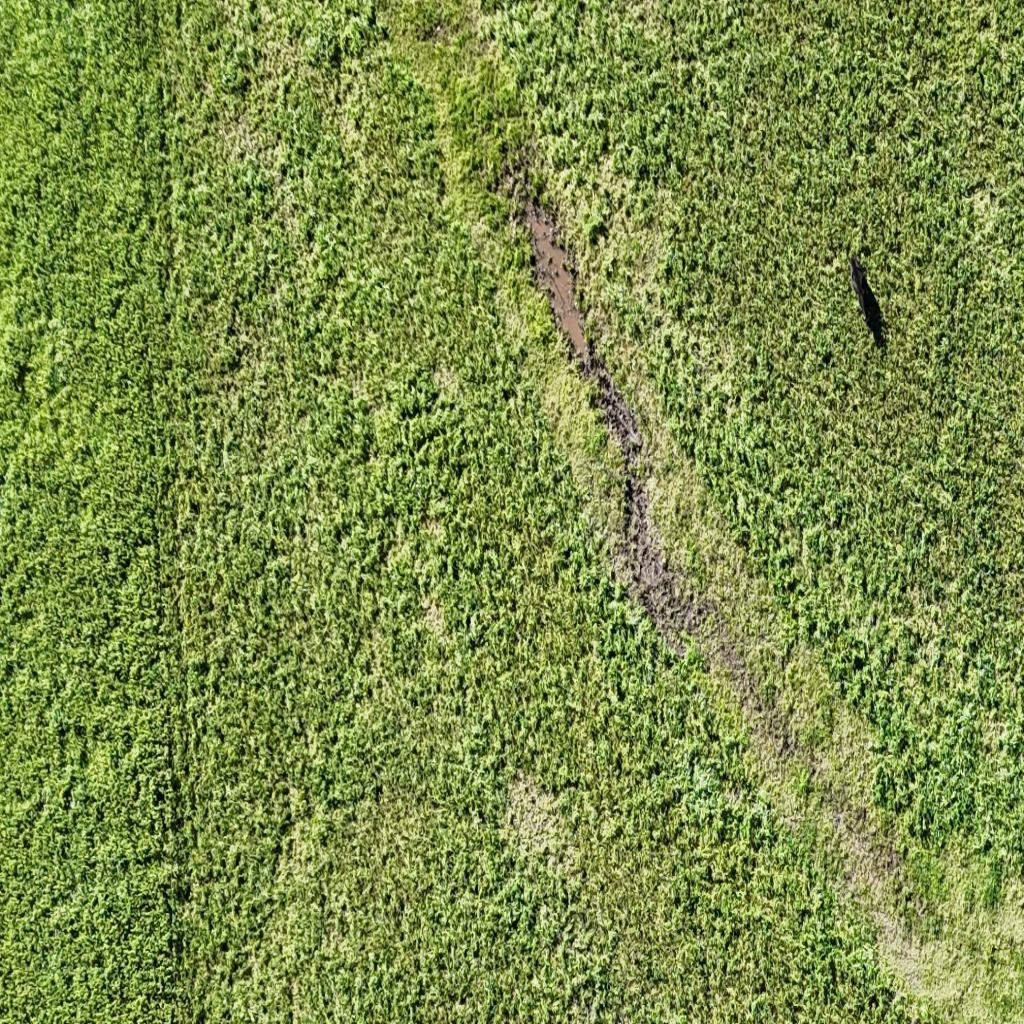cow: (850, 256, 888, 331)
